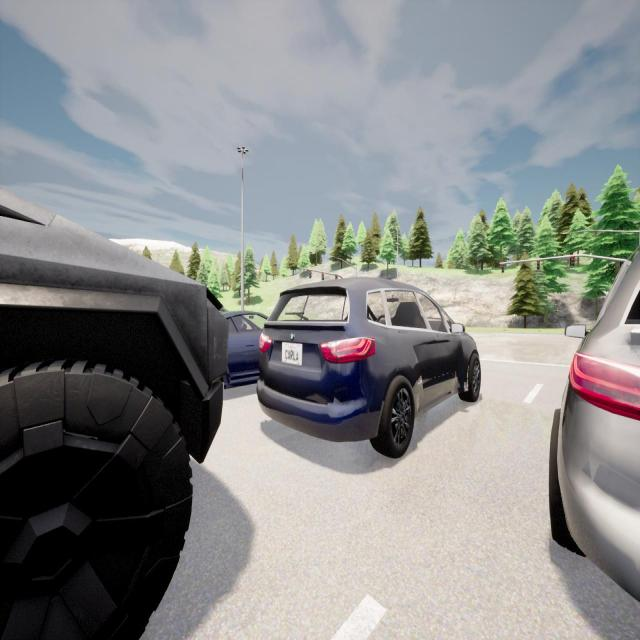Vehicle: (0, 193, 228, 638), (257, 277, 481, 458), (549, 245, 640, 603), (223, 311, 265, 387)
traffic_light: (570, 256, 574, 268), (537, 260, 540, 271), (321, 272, 324, 280), (309, 271, 312, 278), (502, 264, 504, 273), (336, 274, 338, 280)
